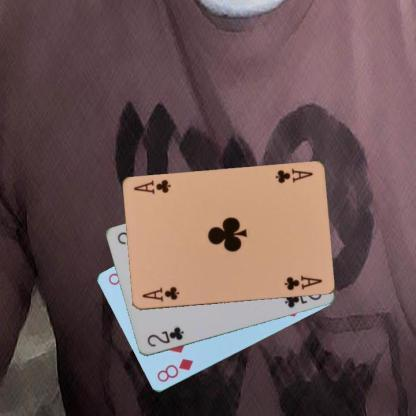2c: (144, 324, 185, 348)
8d: (154, 356, 195, 384)
Ac: (272, 166, 314, 185), (140, 284, 180, 302)
